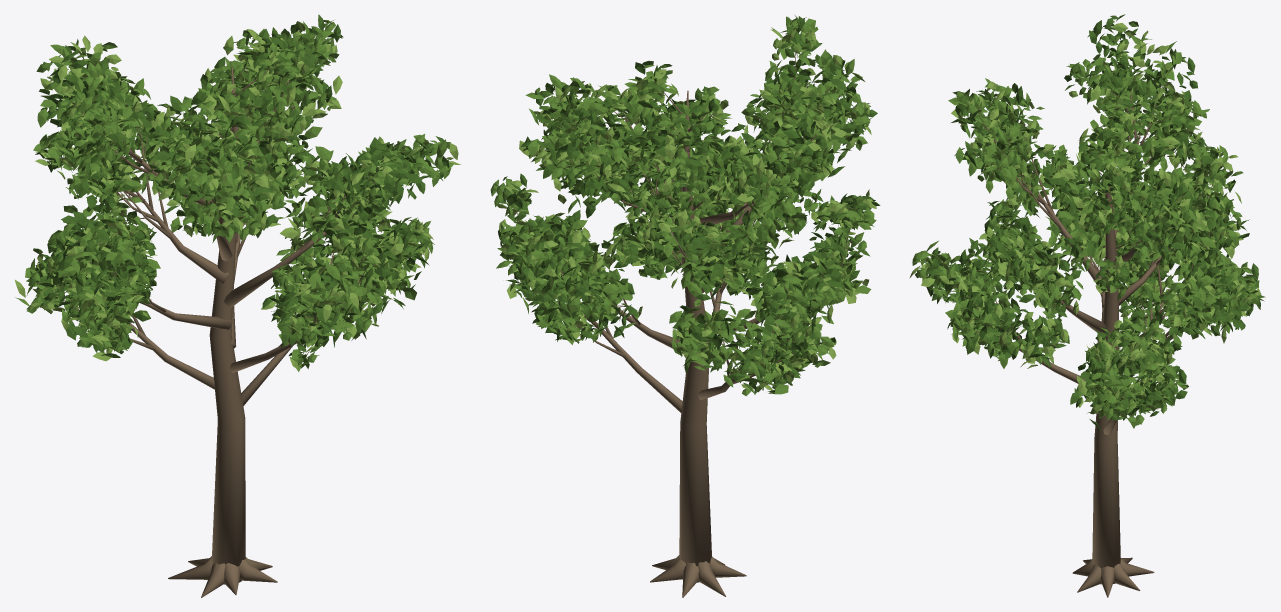
Rendered from SM_Tree_Plane_B.fbx.
3 views of the same model, side by side, from view 1: azimuth 30°, elevation 25°; view 2: azimuth 150°, elevation 25°; view 3: azimuth 270°, elevation 25° (orthographic). The views are drawn at different scales.
Parts seen in each view (by area): view 1: SM_Tree_Plane_B; view 2: SM_Tree_Plane_B; view 3: SM_Tree_Plane_B.
Part boxes in pixels (<box>): SM_Tree_Plane_B: <box>15,14,460,597</box>; SM_Tree_Plane_B: <box>490,14,880,597</box>; SM_Tree_Plane_B: <box>909,14,1265,597</box>.
Bounding box in the file's own units: 500 × 455 × 700.
